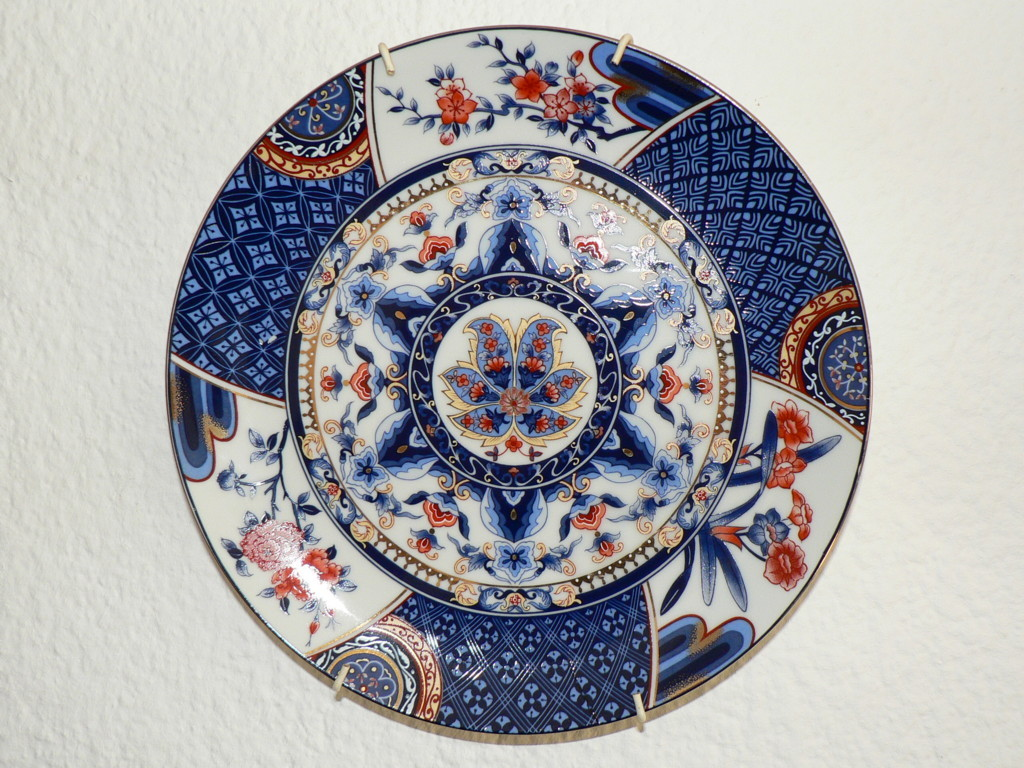plate: (163, 23, 873, 745)
